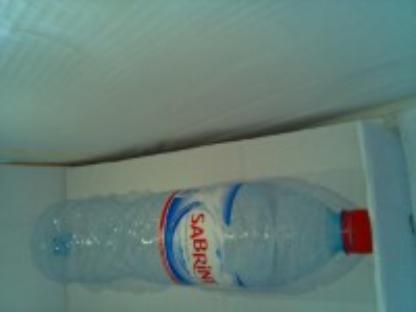Plastic Bottle: (35, 183, 371, 288)
